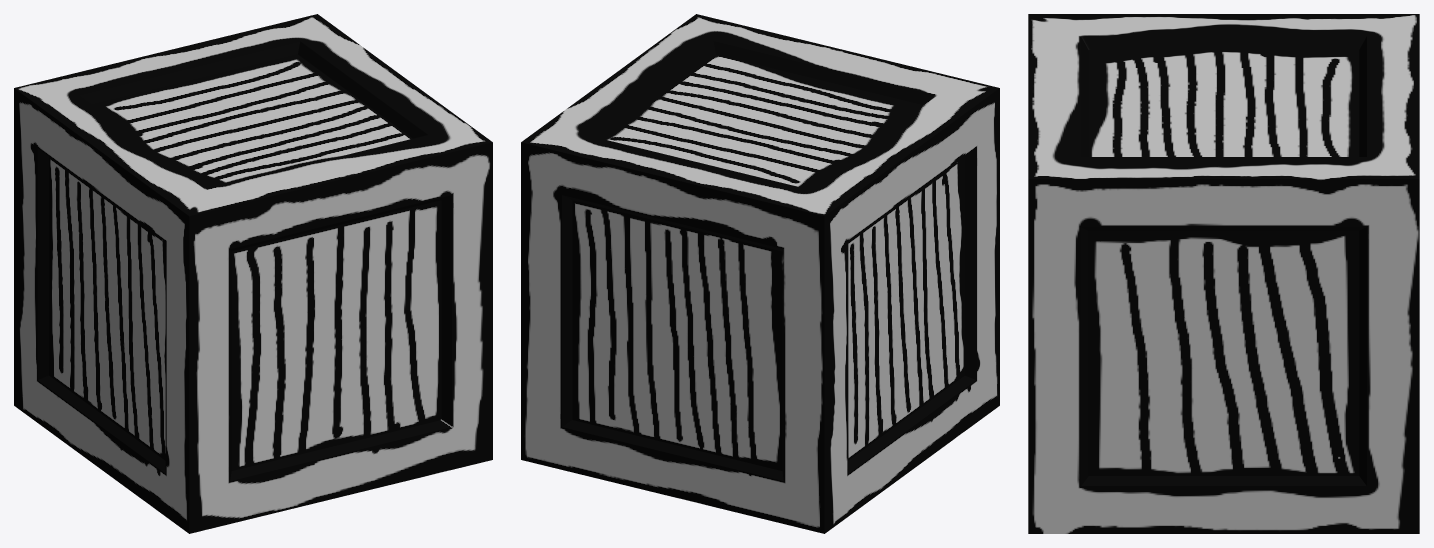
Rendered from bigmode_crate.glb.
The picture shows the model from 3 angles, left to right: view 1: azimuth 30°, elevation 25°; view 2: azimuth 150°, elevation 25°; view 3: azimuth 270°, elevation 25°; orthographic projection. The views are drawn at different scales.
Parts seen in each view (by area): view 1: crate; view 2: crate; view 3: crate.
Part boxes in pixels (x1=…): crate: x1=14, y1=14, x2=492, y2=533; crate: x1=521, y1=14, x2=999, y2=533; crate: x1=1028, y1=14, x2=1419, y2=533.
Bounding box in the file's own units: 1.54 × 1.54 × 1.54.
Materials: 1 (1 with a texture image).
